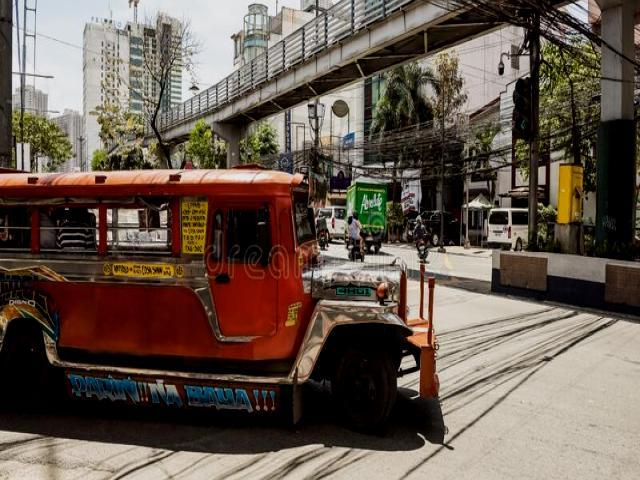jeepney: (8, 172, 457, 439)
